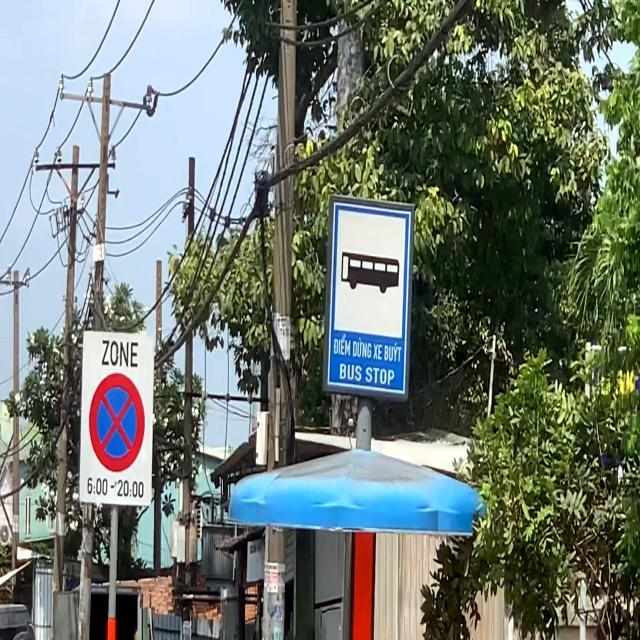Cam dung xe va do xe: (86, 370, 148, 474)
